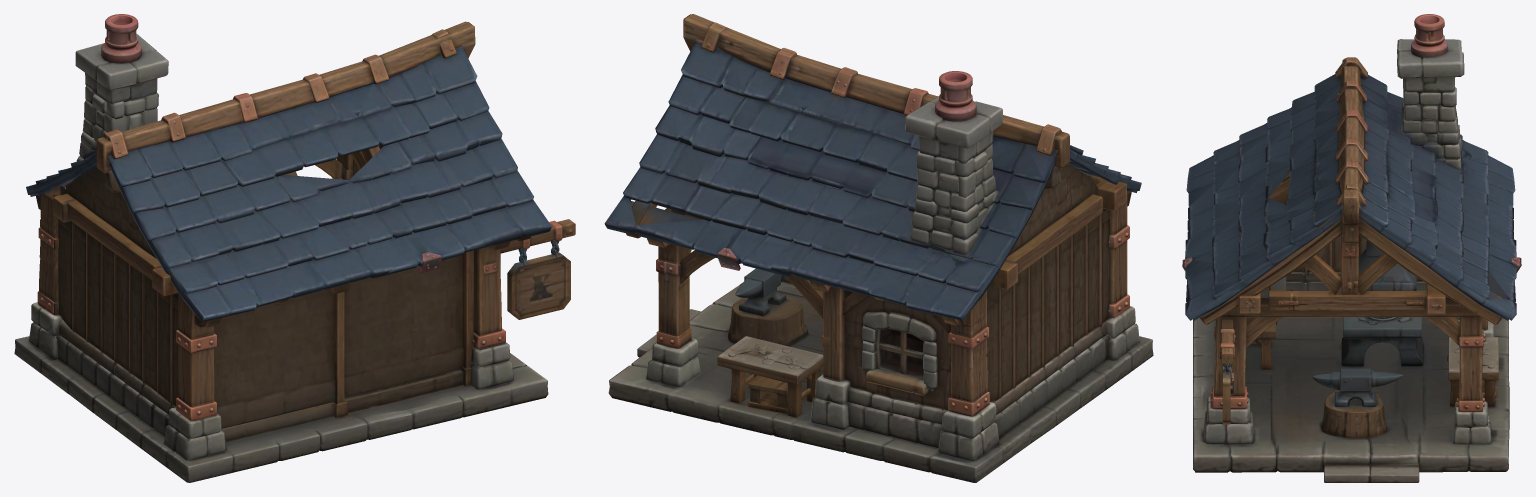
Rendered from jt_cabin_c.glb.
3 views of the same model, side by side, from view 1: azimuth 30°, elevation 25°; view 2: azimuth 150°, elevation 25°; view 3: azimuth 270°, elevation 25° (orthographic). The views are drawn at different scales.
Visible parts, largest first — view 1: tripo_node_b038df61; view 2: tripo_node_b038df61; view 3: tripo_node_b038df61.
Boxes of the visible parts, x1=… form: tripo_node_b038df61: x1=14, y1=14, x2=575, y2=482; tripo_node_b038df61: x1=604, y1=14, x2=1153, y2=482; tripo_node_b038df61: x1=1182, y1=14, x2=1521, y2=482.
Bounding box in the file's own units: 0.9995 × 0.8394 × 0.7993.
1 material, 1 textured.
